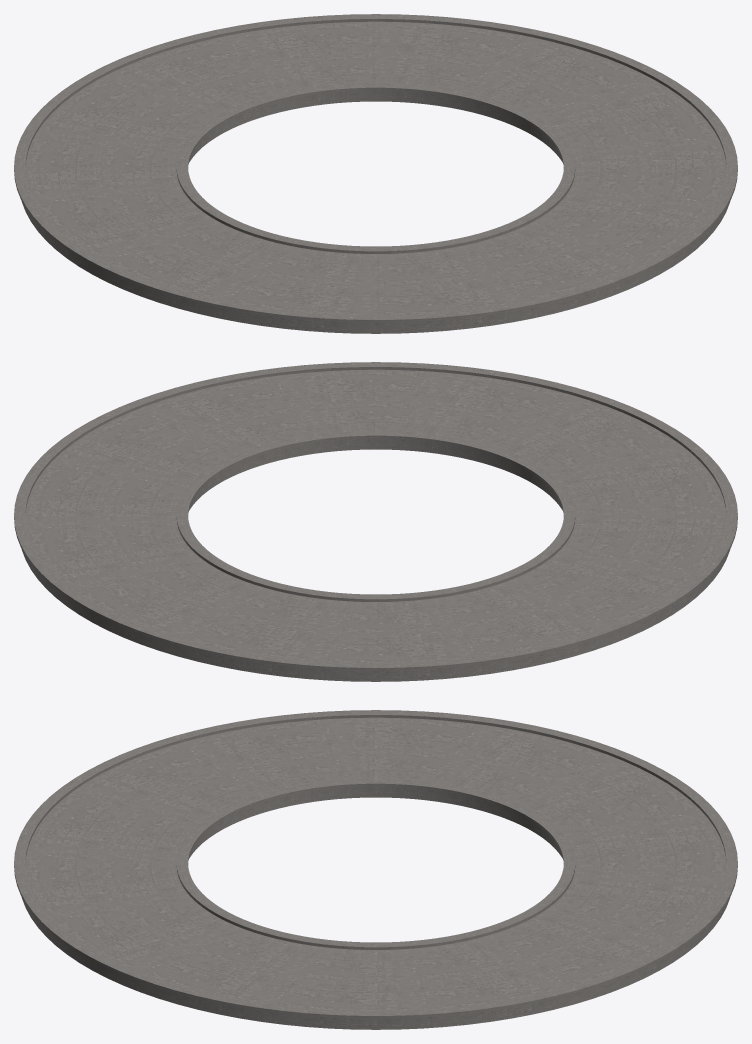
The model's file is deck.glb.
3 renders of one model, top to bottom at view 1: azimuth 30°, elevation 25°; view 2: azimuth 150°, elevation 25°; view 3: azimuth 270°, elevation 25°, orthographic.
Parts seen in each view (by area): view 1: PlazaMetalDeck; view 2: PlazaMetalDeck; view 3: PlazaMetalDeck.
Part boxes in pixels (x1,y1,x2,y2): PlazaMetalDeck: (14,14,737,333); PlazaMetalDeck: (14,362,737,681); PlazaMetalDeck: (14,710,737,1029).
Size of the model in its own units: 18.96 by 0.46 by 18.96.
Materials: 1 (1 with a texture image).
